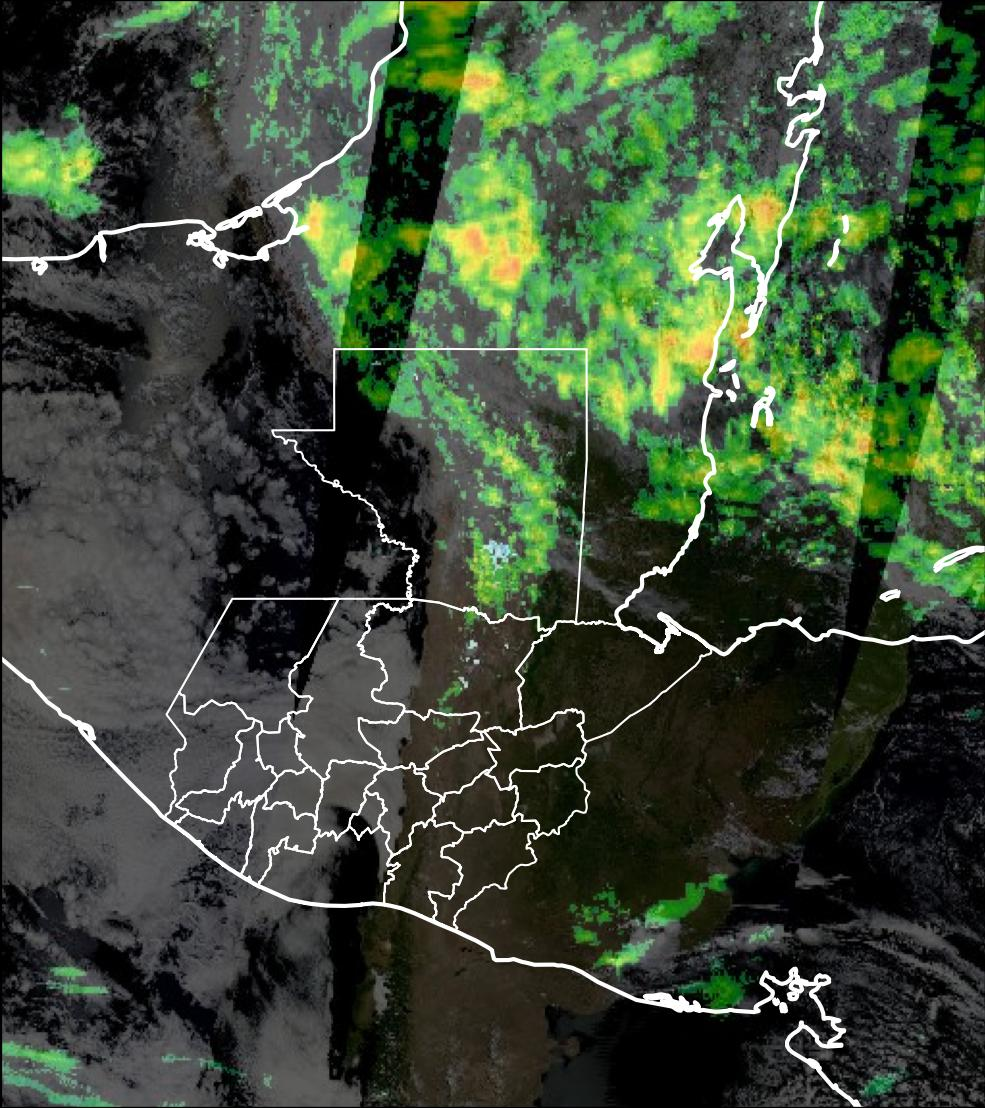precipitacion: (442, 217, 554, 294)
